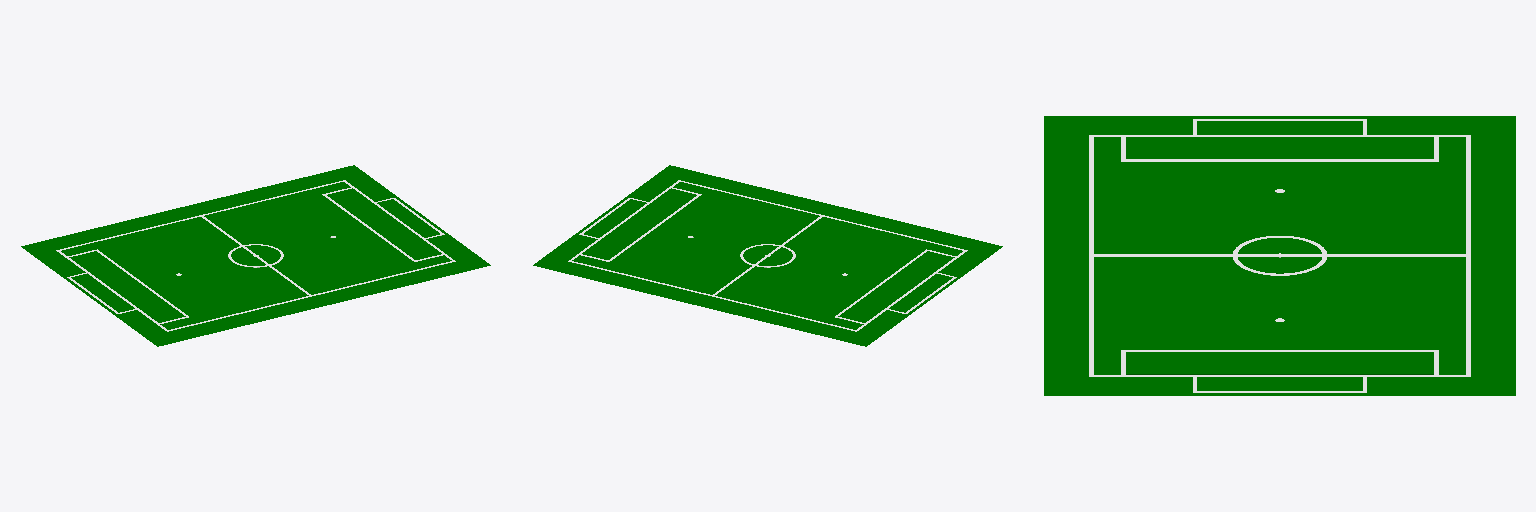
The robot description file, URDF, robot "field":
<?xml version="1.0" ?>
<!-- =================================================================================== -->
<!-- |    This document was autogenerated by xacro from field.xacro                    | -->
<!-- |    EDITING THIS FILE BY HAND IS NOT RECOMMENDED                                 | -->
<!-- =================================================================================== -->
<robot name="field">
  <material name="green">
    <color rgba="0 0.5 0 1"/>
  </material>
  <material name="white">
    <color rgba="1 1 1 1"/>
  </material>
  <material name="red">
    <color rgba="1 0 0 1"/>
  </material>
  <material name="blue">
    <color rgba="0 0 1 1"/>
  </material>
  <link name="world"/>
  <link name="base">
    <visual>
      <geometry>
        <box size="10.4 7.4 0"/>
      </geometry>
      <origin xyz="0 0 0 "/>
      <material name="green"/>
    </visual>
    <collision>
      <geometry>
        <box size="10.4 7.4 0"/>
      </geometry>
      <origin xyz="0 0 0 "/>
    </collision>
  </link>
  <joint name="base_with_world" type="fixed">
    <parent link="world"/>
    <child link="base"/>
  </joint>
  <link name="kickoff_line">
    <visual>
      <geometry>
        <cylinder length="0.001" radius="0.75"/>
      </geometry>
      <origin xyz="0 0 0.005"/>
      <material name="white"/>
    </visual>
    <collision>
      <geometry>
        <cylinder length="0.001" radius="0.75"/>
      </geometry>
      <origin xyz="0 0 0.005"/>
    </collision>
  </link>
  <joint name="base_with_kickoff_line" type="fixed">
    <parent link="base"/>
    <child link="kickoff_line"/>
  </joint>
  <link name="kickoff_spot">
    <visual>
      <geometry>
        <cylinder length="0.001" radius="0.075"/>
      </geometry>
      <origin xyz="0 0 0.009"/>
      <material name="white"/>
    </visual>
    <collision>
      <geometry>
        <cylinder length="0.001" radius="0.075"/>
      </geometry>
      <origin xyz="0 0 0.009"/>
    </collision>
  </link>
  <joint name="base_with_kickoff_spot" type="fixed">
    <parent link="base"/>
    <child link="kickoff_spot"/>
  </joint>
  <link name="kickoff_area">
    <visual>
      <geometry>
        <cylinder length="0.001" radius="0.67"/>
      </geometry>
      <origin xyz="0 0 0.007"/>
      <material name="green"/>
    </visual>
    <collision>
      <geometry>
        <cylinder length="0.001" radius="0.67"/>
      </geometry>
      <origin xyz="0 0 0.007"/>
    </collision>
  </link>
  <joint name="base_with_kickoff_area" type="fixed">
    <parent link="base"/>
    <child link="kickoff_area"/>
  </joint>
  <link name="middle_line">
    <visual>
      <geometry>
        <box size="0.08 6 0.001"/>
      </geometry>
      <origin xyz="0 0 0.009"/>
      <material name="white"/>
    </visual>
    <collision>
      <geometry>
        <box size="0.08 6 0.001"/>
      </geometry>
      <origin xyz="0 0 0.009"/>
    </collision>
  </link>
  <joint name="base_with_middle_line" type="fixed">
    <parent link="base"/>
    <child link="middle_line"/>
    <origin xyz="0 0 0"/>
  </joint>
  <link name="outer_line">
    <visual>
      <geometry>
        <box size="9.0 6.0 0.001"/>
      </geometry>
      <origin xyz="0.0 0.0 0.001"/>
      <material name="white"/>
    </visual>
    <collision>
      <geometry>
        <box size="9.0 6.0 0.001"/>
      </geometry>
      <origin xyz="0.0 0.0 0.001"/>
    </collision>
  </link>
  <joint name="base_with_outer_line" type="fixed">
    <parent link="base"/>
    <child link="outer_line"/>
    <origin xyz="0 0 0"/>
  </joint>
  <link name="inner_field">
    <visual>
      <geometry>
        <box size="8.84 5.84 0.001"/>
      </geometry>
      <origin xyz="0 0 0.003"/>
      <material name="green"/>
    </visual>
    <collision>
      <geometry>
        <box size="8.84 5.84 0.001"/>
      </geometry>
      <origin xyz="0 0 0.003"/>
    </collision>
  </link>
  <joint name="base_with_inner_field" type="fixed">
    <parent link="base"/>
    <child link="inner_field"/>
    <origin xyz="0 0 0"/>
  </joint>
  <link name="goal_box_1">
    <visual>
      <geometry>
        <box size="0.6 2.74 0.001"/>
      </geometry>
      <origin xyz="-4.8 0 0.001"/>
      <material name="white"/>
    </visual>
    <collision>
      <geometry>
        <box size="0.6 2.74 0.001"/>
      </geometry>
      <origin xyz="-4.8 0 0.001"/>
    </collision>
  </link>
  <joint name="base_with_goal_box_1" type="fixed">
    <parent link="base"/>
    <child link="goal_box_1"/>
    <origin xyz="0 0 0"/>
  </joint>
  <link name="goal_area_1">
    <visual>
      <geometry>
        <box size="0.52 2.6 0.001"/>
      </geometry>
      <origin xyz="-4.76 0 0.003"/>
      <material name="green"/>
    </visual>
    <collision>
      <geometry>
        <box size="0.52 2.6 0.001"/>
      </geometry>
      <origin xyz="-4.76 0 0.003"/>
    </collision>
  </link>
  <joint name="base_with_goal_area_1" type="fixed">
    <parent link="base"/>
    <child link="goal_area_1"/>
    <origin xyz="0 0 0"/>
  </joint>
  <link name="goal_box_2">
    <visual>
      <geometry>
        <box size="0.6 2.74 0.001"/>
      </geometry>
      <origin xyz="4.8 0 0.001"/>
      <material name="white"/>
    </visual>
    <collision>
      <geometry>
        <box size="0.6 2.74 0.001"/>
      </geometry>
      <origin xyz="4.8 0 0.001"/>
    </collision>
  </link>
  <joint name="base_with_goal_box_2" type="fixed">
    <parent link="base"/>
    <child link="goal_box_2"/>
    <origin xyz="0 0 0"/>
  </joint>
  <link name="goal_area_2">
    <visual>
      <geometry>
        <box size="0.52 2.6 0.001"/>
      </geometry>
      <origin xyz="4.76 0 0.003"/>
      <material name="green"/>
    </visual>
    <collision>
      <geometry>
        <box size="0.52 2.6 0.001"/>
      </geometry>
      <origin xyz="4.76 0 0.003"/>
    </collision>
  </link>
  <joint name="base_with_goal_area_2" type="fixed">
    <parent link="base"/>
    <child link="goal_area_2"/>
    <origin xyz="0 0 0"/>
  </joint>
  <link name="penalty_box_1">
    <visual>
      <geometry>
        <box size="1 5 0.001"/>
      </geometry>
      <origin xyz="-4 0 0.005"/>
      <material name="white"/>
    </visual>
    <collision>
      <geometry>
        <box size="1 5 0.001"/>
      </geometry>
      <origin xyz="-4 0 0.005"/>
    </collision>
  </link>
  <joint name="base_with_penalty_box_1" type="fixed">
    <parent link="base"/>
    <child link="penalty_box_1"/>
    <origin xyz="0 0 0"/>
  </joint>
  <link name="penalty_area_1">
    <visual>
      <geometry>
        <box size="0.84 4.84 0.001"/>
      </geometry>
      <origin xyz="-4 0 0.007"/>
      <material name="green"/>
    </visual>
    <collision>
      <geometry>
        <box size="0.84 4.84 0.001"/>
      </geometry>
      <origin xyz="-4 0 0.007"/>
    </collision>
  </link>
  <joint name="base_with_penalty_area_1" type="fixed">
    <parent link="base"/>
    <child link="penalty_area_1"/>
    <origin xyz="0 0 0"/>
  </joint>
  <link name="penalty_box_2">
    <visual>
      <geometry>
        <box size="1 5 0.001"/>
      </geometry>
      <origin xyz="4 0 0.005"/>
      <material name="white"/>
    </visual>
    <collision>
      <geometry>
        <box size="1 5 0.001"/>
      </geometry>
      <origin xyz="4 0 0.005"/>
    </collision>
  </link>
  <joint name="base_with_penalty_box_2" type="fixed">
    <parent link="base"/>
    <child link="penalty_box_2"/>
    <origin xyz="0 0 0"/>
  </joint>
  <link name="penalty_area_2">
    <visual>
      <geometry>
        <box size="0.84 4.84 0.001"/>
      </geometry>
      <origin xyz="4 0 0.007"/>
      <material name="green"/>
    </visual>
    <collision>
      <geometry>
        <box size="0.84 4.84 0.001"/>
      </geometry>
      <origin xyz="4 0 0.007"/>
    </collision>
  </link>
  <joint name="base_with_penalty_area_2" type="fixed">
    <parent link="base"/>
    <child link="penalty_area_2"/>
    <origin xyz="0 0 0"/>
  </joint>
  <link name="penalty_mark_1">
    <visual>
      <geometry>
        <cylinder length="0.001" radius="0.075"/>
      </geometry>
      <origin xyz="-2.4 0 0.005"/>
      <material name="white"/>
    </visual>
    <collision>
      <geometry>
        <cylinder length="0.001" radius="0.075"/>
      </geometry>
      <origin xyz="-2.4 0 0.005"/>
    </collision>
  </link>
  <joint name="base_with_penalty_mark_1" type="fixed">
    <parent link="base"/>
    <child link="penalty_mark_1"/>
    <origin xyz="0 0 0"/>
  </joint>
  <link name="penalty_mark_2">
    <visual>
      <geometry>
        <cylinder length="0.001" radius="0.075"/>
      </geometry>
      <origin xyz="2.4 0 0.005"/>
      <material name="white"/>
    </visual>
    <collision>
      <geometry>
        <cylinder length="0.001" radius="0.075"/>
      </geometry>
      <origin xyz="2.4 0 0.005"/>
    </collision>
  </link>
  <joint name="base_with_penalty_mark_2" type="fixed">
    <parent link="base"/>
    <child link="penalty_mark_2"/>
    <origin xyz="0 0 0"/>
  </joint>
</robot>

--- What the picture shows (computed from the rendered views, not written in the file) ---
The picture shows the robot from 3 angles, left to right: view 1: azimuth 30°, elevation 25°; view 2: azimuth 150°, elevation 25°; view 3: azimuth 270°, elevation 25°; orthographic projection.
Robot: field — 18 links, 17 joints (17 fixed); root link world; default pose: all joints at 0.
Links seen in each view (by area): view 1: inner_field, base, penalty_area_1, penalty_area_2, outer_line, goal_area_1, goal_area_2, kickoff_area, penalty_box_2, penalty_box_1; view 2: inner_field, base, penalty_area_1, penalty_area_2, outer_line, goal_area_1, goal_area_2, kickoff_area, penalty_box_2, penalty_box_1; view 3: inner_field, base, penalty_area_2, penalty_area_1, outer_line, goal_area_1, goal_area_2, kickoff_area, penalty_box_1, penalty_box_2, middle_line, kickoff_line.
Link boxes in pixels (left/top/right/bottom): inner_field: left=61, top=182, right=451, bottom=329; base: left=21, top=165, right=490, bottom=346; penalty_area_1: left=69, top=251, right=185, bottom=322; penalty_area_2: left=327, top=188, right=441, bottom=259; outer_line: left=56, top=180, right=455, bottom=331; goal_area_1: left=71, top=274, right=134, bottom=312; goal_area_2: left=377, top=199, right=439, bottom=237; kickoff_area: left=231, top=245, right=280, bottom=265; penalty_box_2: left=322, top=187, right=446, bottom=261; penalty_box_1: left=66, top=249, right=188, bottom=324; inner_field: left=572, top=182, right=962, bottom=329; base: left=533, top=165, right=1002, bottom=346; penalty_area_1: left=838, top=251, right=954, bottom=322; penalty_area_2: left=582, top=188, right=696, bottom=259; outer_line: left=568, top=180, right=967, bottom=331; goal_area_1: left=889, top=274, right=952, bottom=312; goal_area_2: left=584, top=199, right=646, bottom=237; kickoff_area: left=743, top=245, right=792, bottom=265; penalty_box_2: left=577, top=187, right=701, bottom=261; penalty_box_1: left=835, top=249, right=957, bottom=324; inner_field: left=1094, top=137, right=1465, bottom=374; base: left=1044, top=116, right=1515, bottom=395; penalty_area_2: left=1126, top=352, right=1433, bottom=374; penalty_area_1: left=1126, top=137, right=1433, bottom=158; outer_line: left=1089, top=135, right=1470, bottom=376; goal_area_1: left=1197, top=121, right=1362, bottom=134; goal_area_2: left=1197, top=377, right=1362, bottom=390; kickoff_area: left=1238, top=238, right=1321, bottom=273; penalty_box_1: left=1121, top=135, right=1438, bottom=161; penalty_box_2: left=1121, top=350, right=1438, bottom=376; middle_line: left=1089, top=254, right=1470, bottom=256; kickoff_line: left=1233, top=236, right=1326, bottom=275.
Bounding box of the posed robot: 10.4 × 7.4 × 0.0095 m (x, y, z).
Geometry: primitives only (box / cylinder / sphere), no mesh files.
